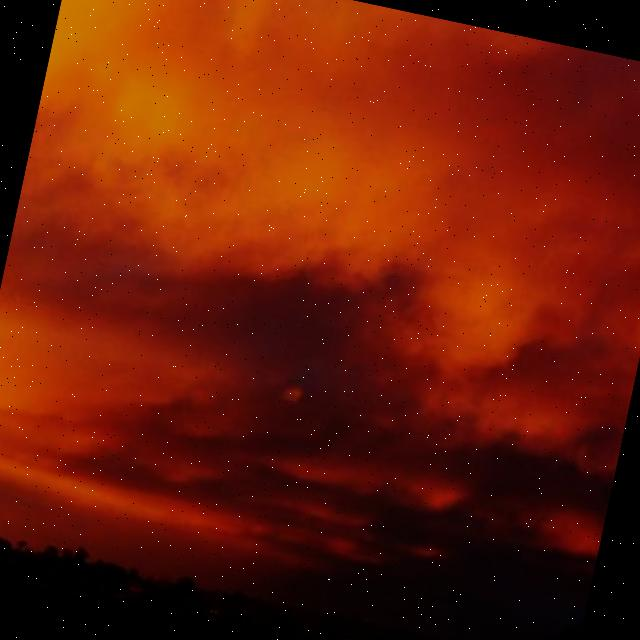As: (1, 7, 640, 533)
